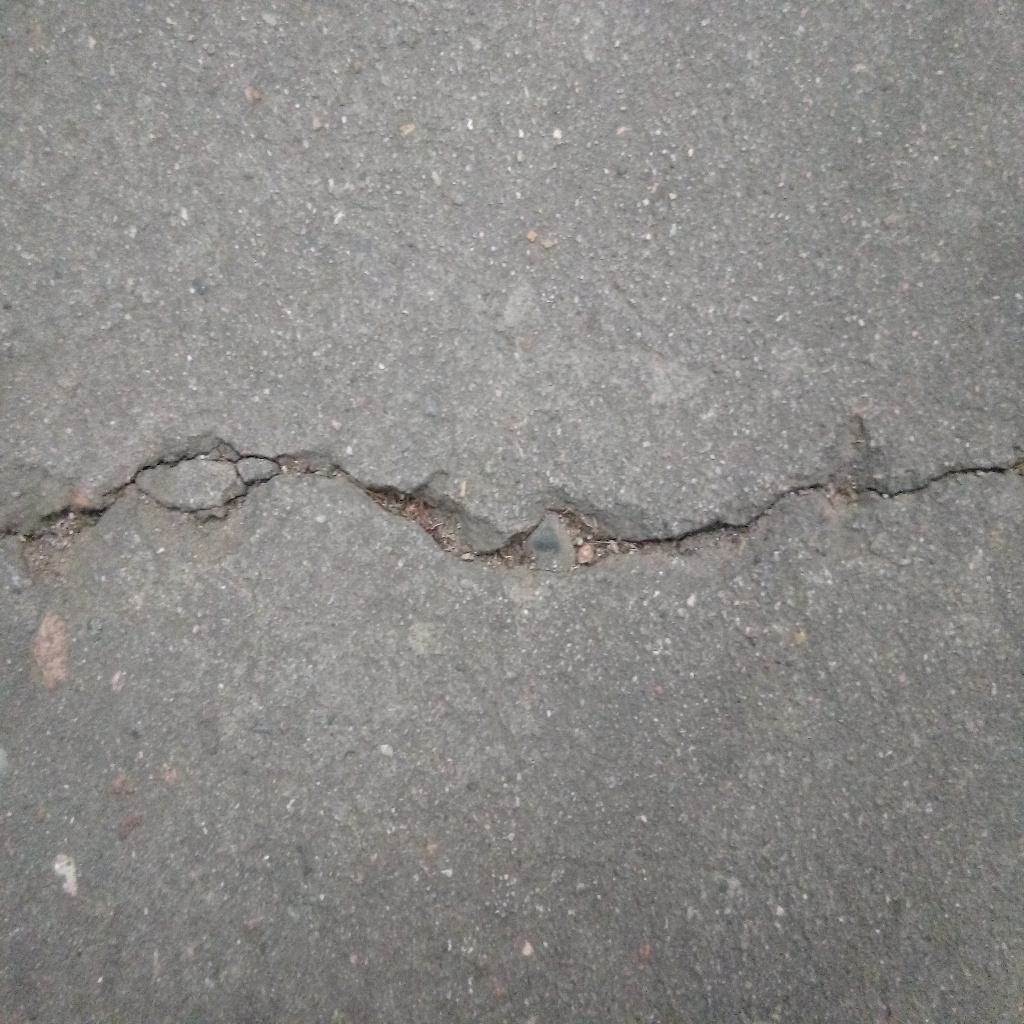Crack: (1, 434, 1024, 576)
